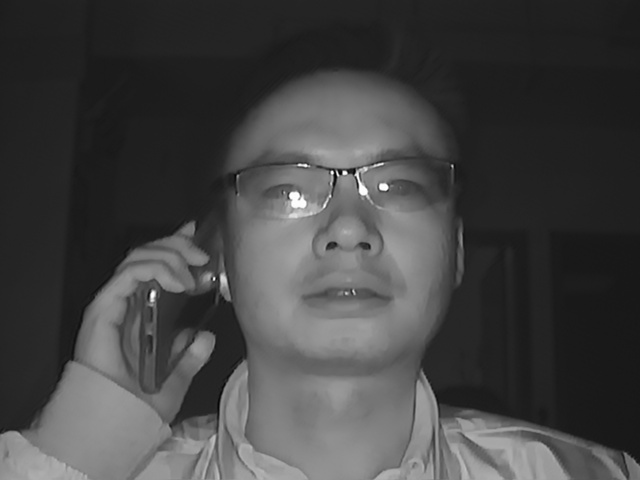hand: (68, 219, 221, 404)
